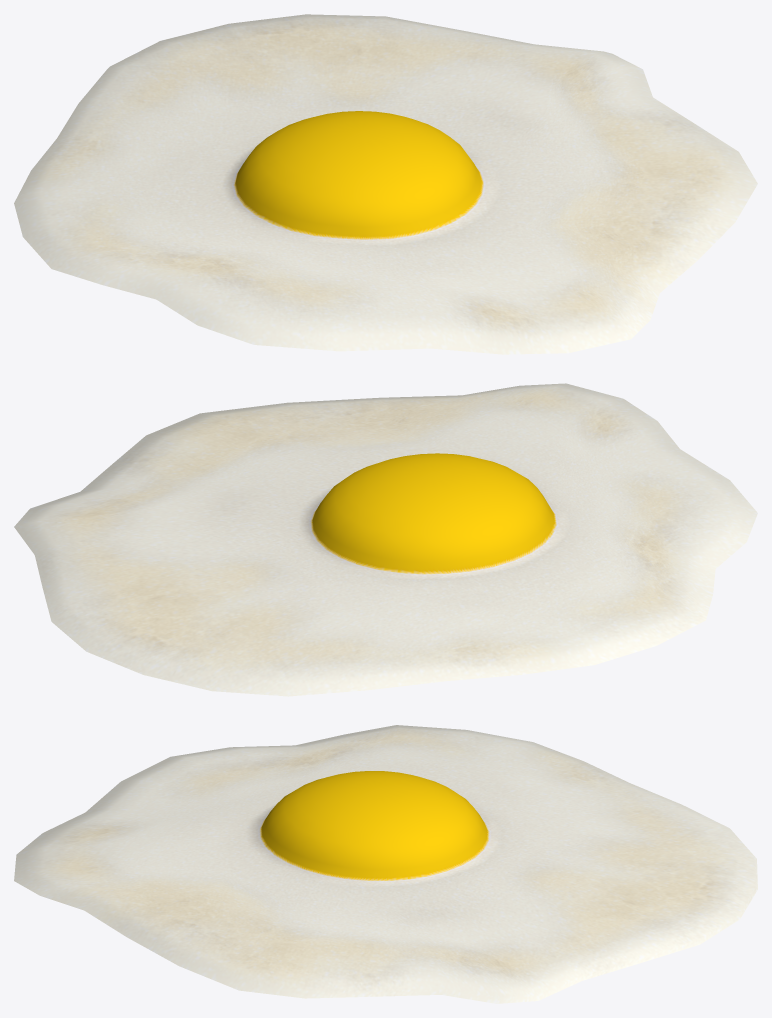
The model's file is Egg_Cracked_30.obj.
The picture shows the model from 3 angles, top to bottom: view 1: azimuth 30°, elevation 25°; view 2: azimuth 150°, elevation 25°; view 3: azimuth 270°, elevation 25°; orthographic projection. The views are drawn at different scales.
Visible parts, largest first — view 1: fried_egg_30; view 2: fried_egg_30; view 3: fried_egg_30.
Part boxes in pixels (x1,y1,x2,y2): fried_egg_30: [14, 14, 757, 354]; fried_egg_30: [14, 383, 757, 696]; fried_egg_30: [14, 725, 757, 1003].
Bounding box in the file's own units: 0.1306 × 0.014 × 0.1472.
